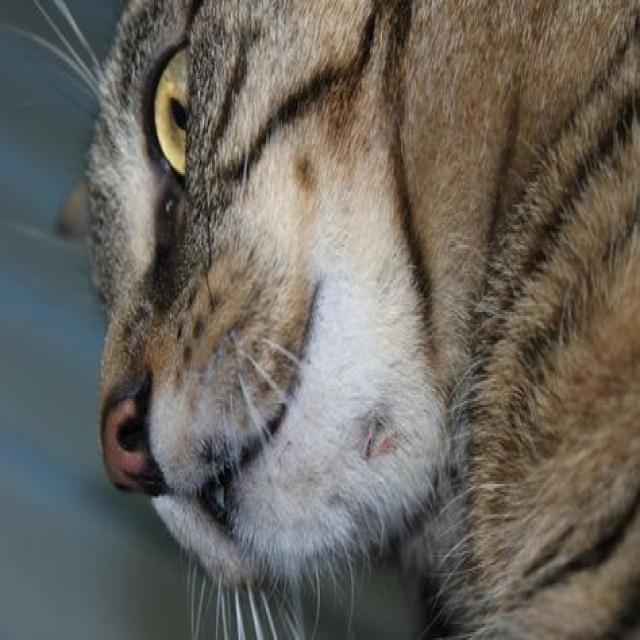cat-lump-and-bump: (355, 414, 407, 468)
